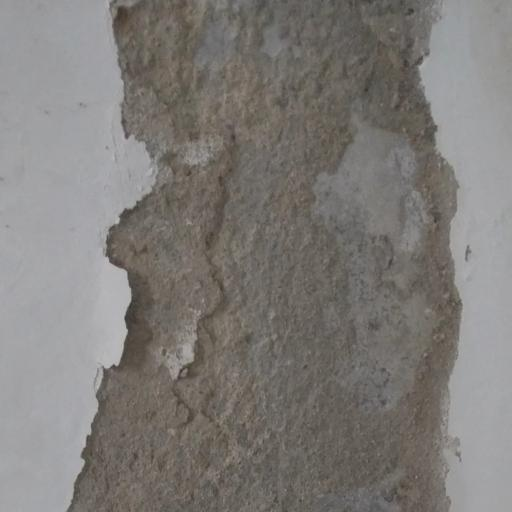spalling: (80, 0, 484, 512)
